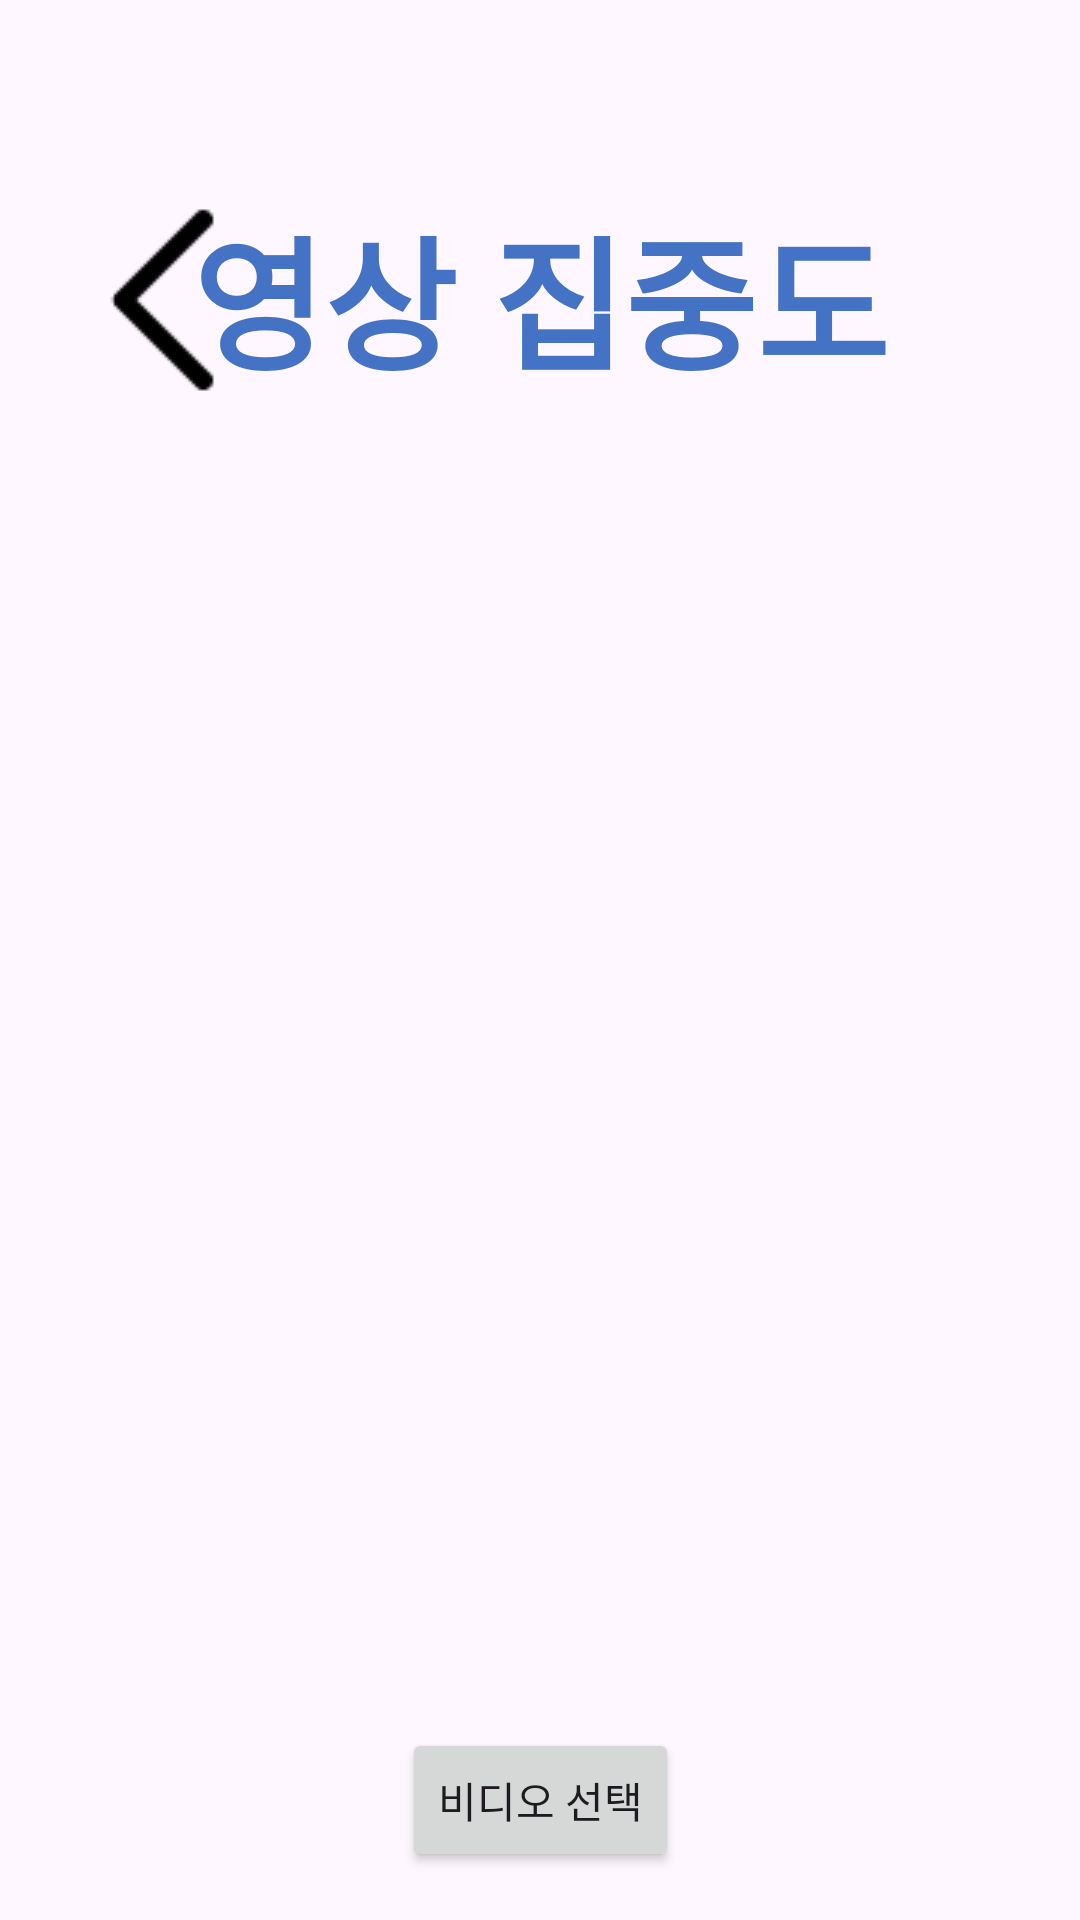

Where icons sit on this 1080x1920 app screen, as {"x1": x1, "y1": y1, "x2": x2, "y2": y2}:
arrow back: {"x1": 111, "y1": 209, "x2": 214, "y2": 391}
